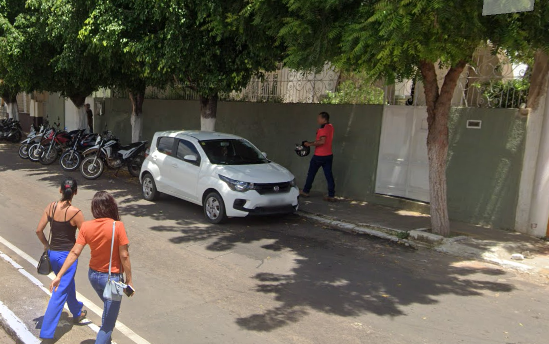car: (136, 126, 302, 244)
